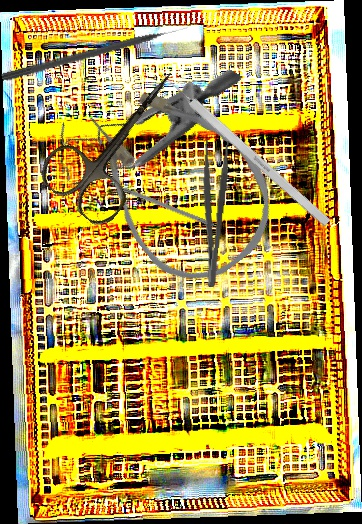Cannula: (60, 54, 298, 304)
Dressing Forceps: (192, 138, 231, 288)
Hook Surgical: (157, 69, 332, 228), (103, 178, 215, 228)
Iris Scissors: (32, 46, 208, 232)
Pusher: (0, 23, 191, 84)
Speculum: (38, 9, 243, 231)
